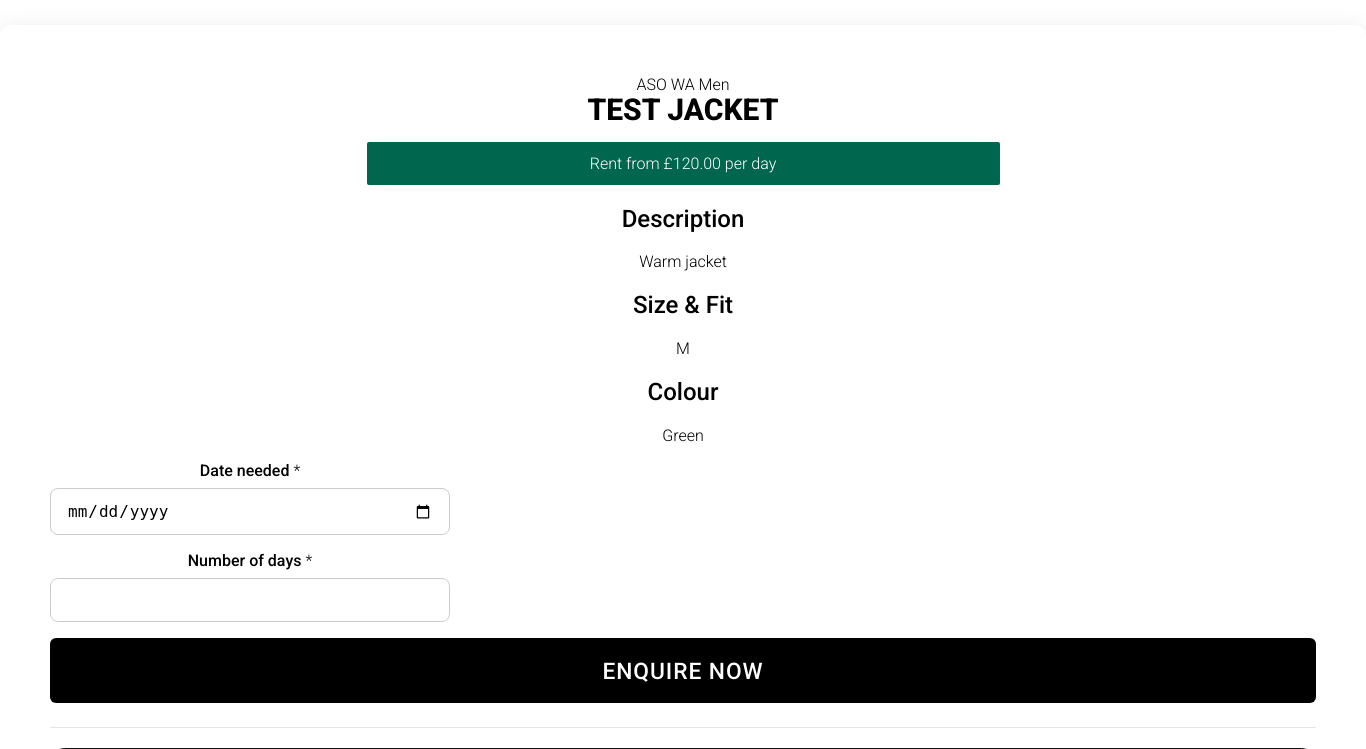
Test case: Details › handleRent — happy path › shows pending message after successful rental
Type "2026-06-15" into the date field at (250, 512), box [50,488,450,535]
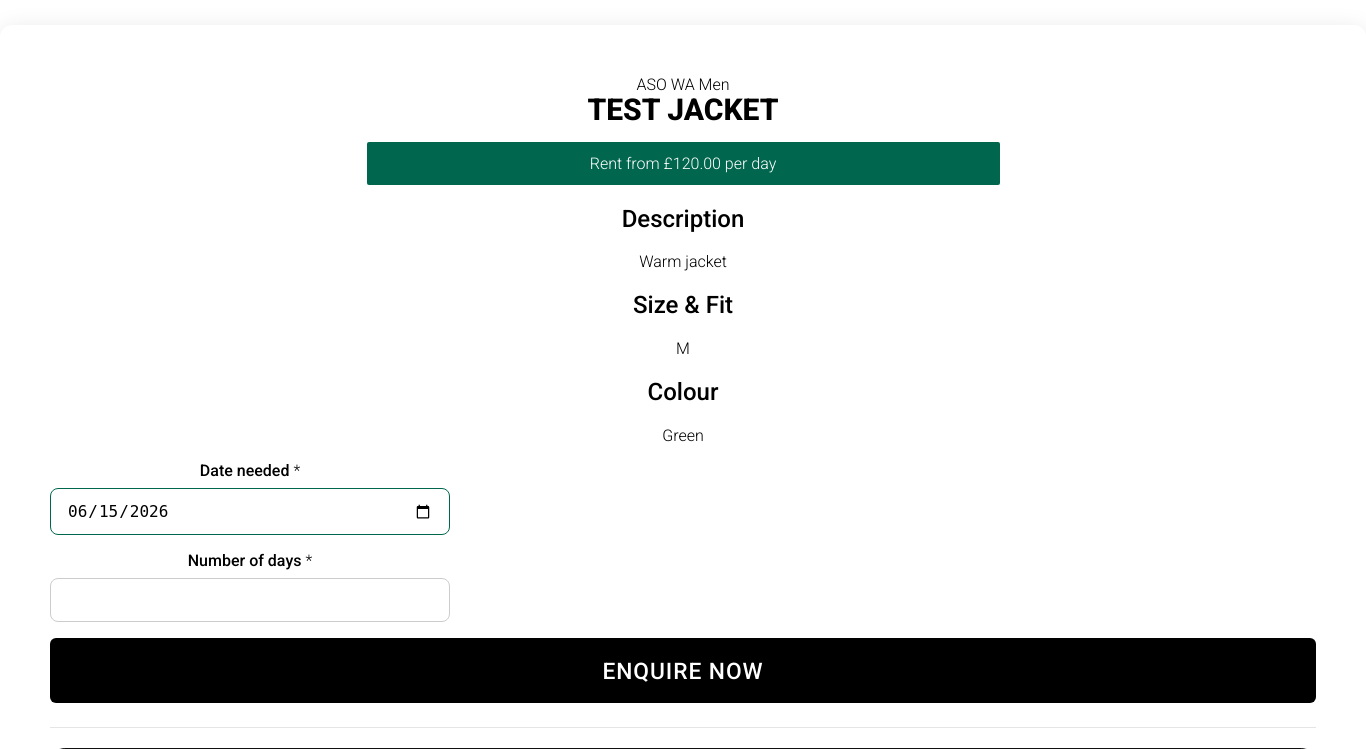
Type "3" into the number field at (250, 600), box [50,578,450,622]
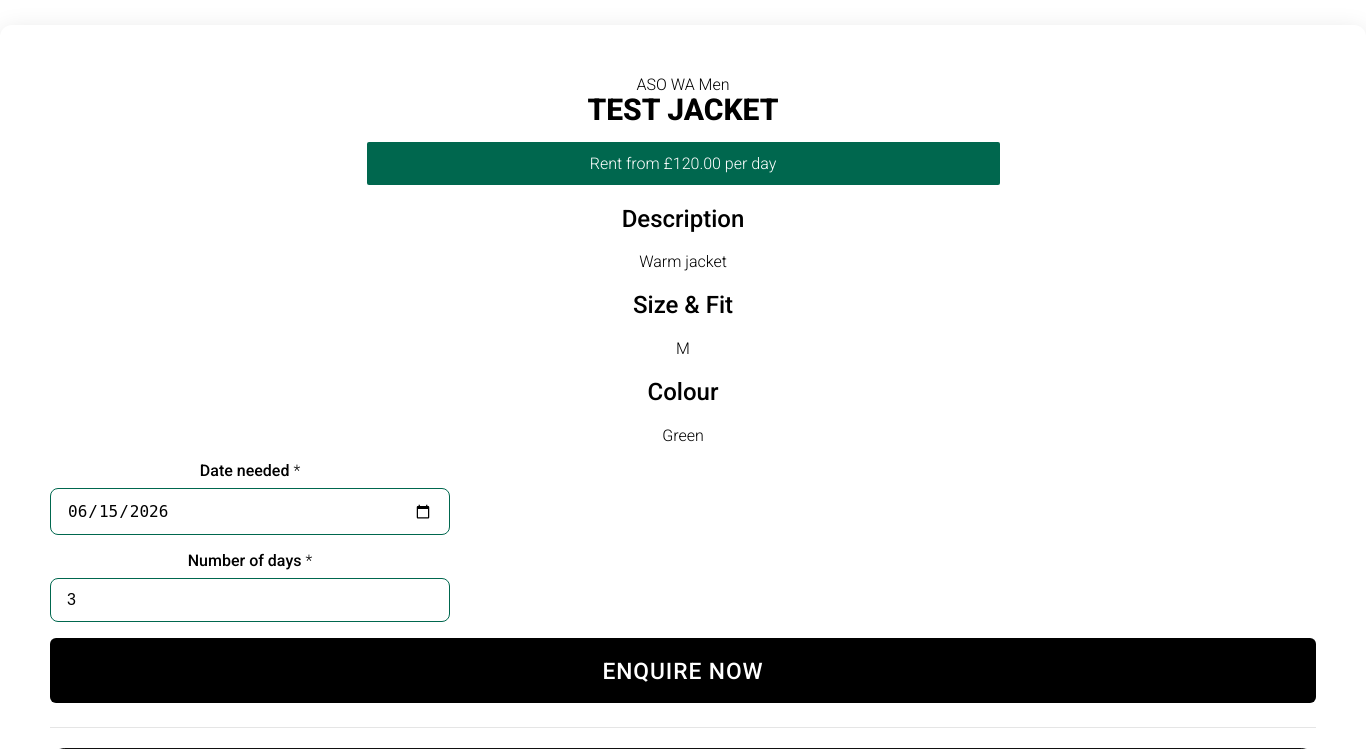
Click the button "Enquire Now" at (683, 671), box [50,638,1316,703]
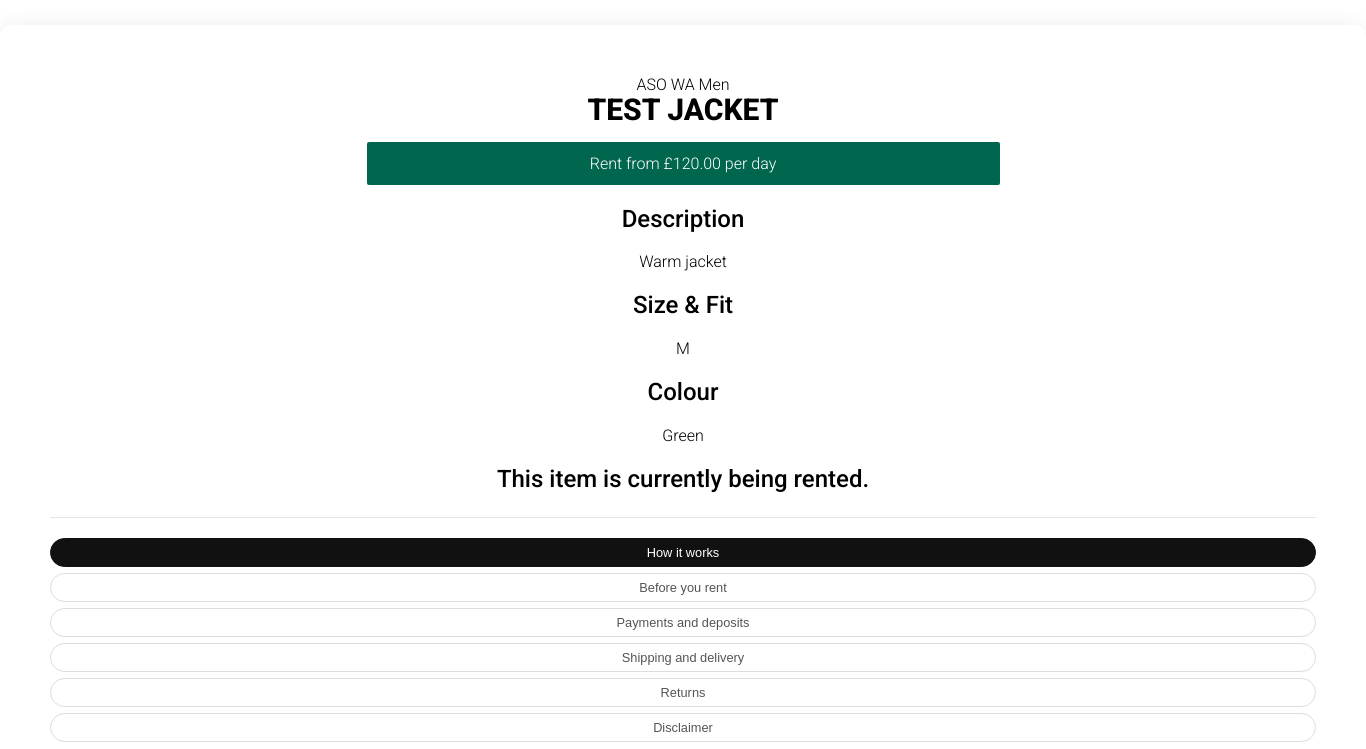
Now the heading "This item is currently being rented." is shown, box [497,465,869,493]
